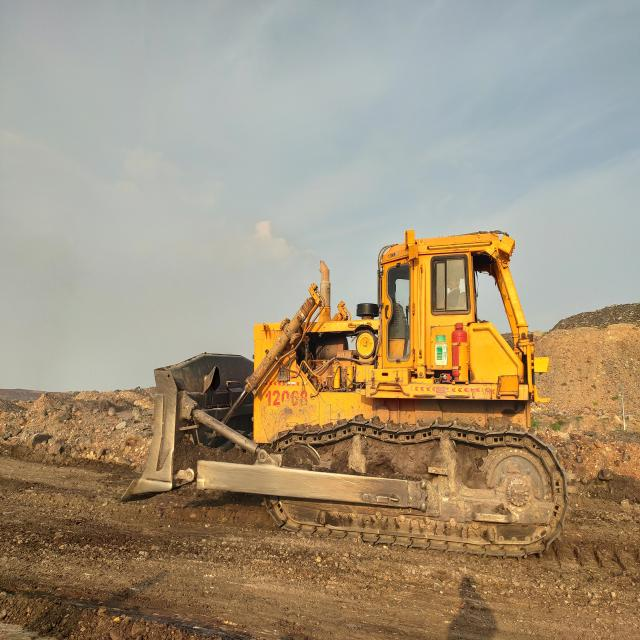buldozerpayloadergrader: (122, 232, 568, 557)
